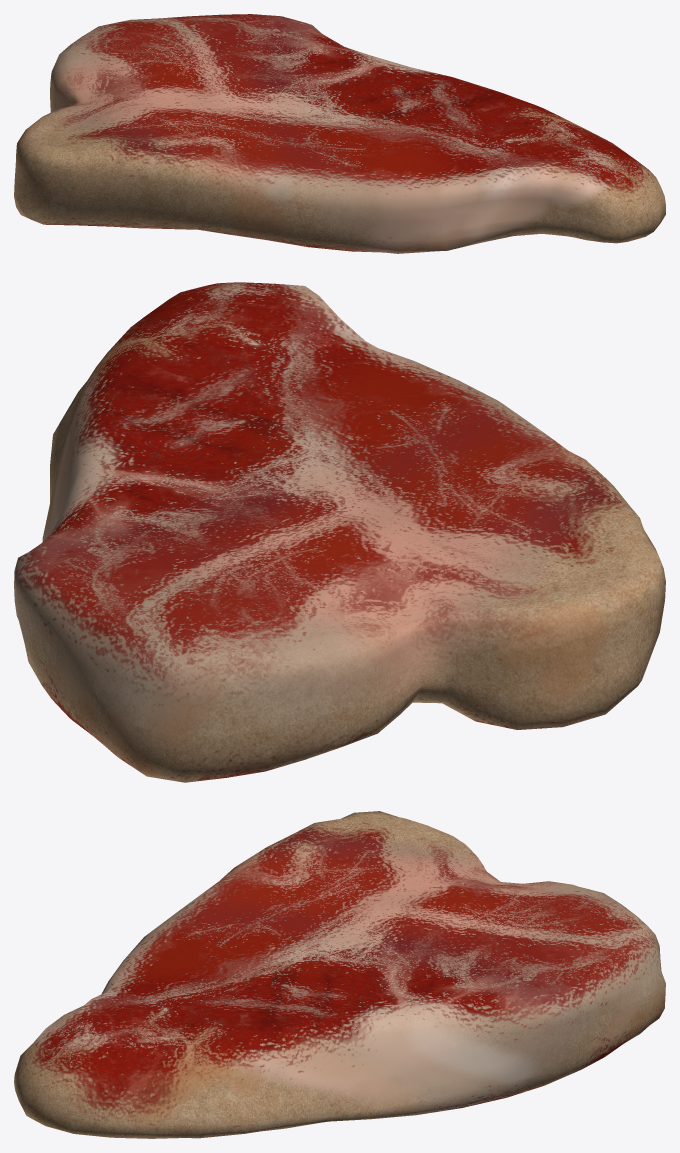
The model's file is Steak.glb.
3 renders of one model, top to bottom at view 1: azimuth 30°, elevation 25°; view 2: azimuth 150°, elevation 25°; view 3: azimuth 270°, elevation 25°, orthographic. The views are drawn at different scales.
Visible parts, largest first — view 1: SteakUV; view 2: SteakUV; view 3: SteakUV.
Part boxes in pixels (x1=…): SteakUV: x1=14, y1=14, x2=665, y2=253; SteakUV: x1=14, y1=282, x2=665, y2=782; SteakUV: x1=14, y1=811, x2=665, y2=1138.
Bounding box in the file's own units: 16.14 × 3.62 × 17.43.
1 material, 1 textured.
